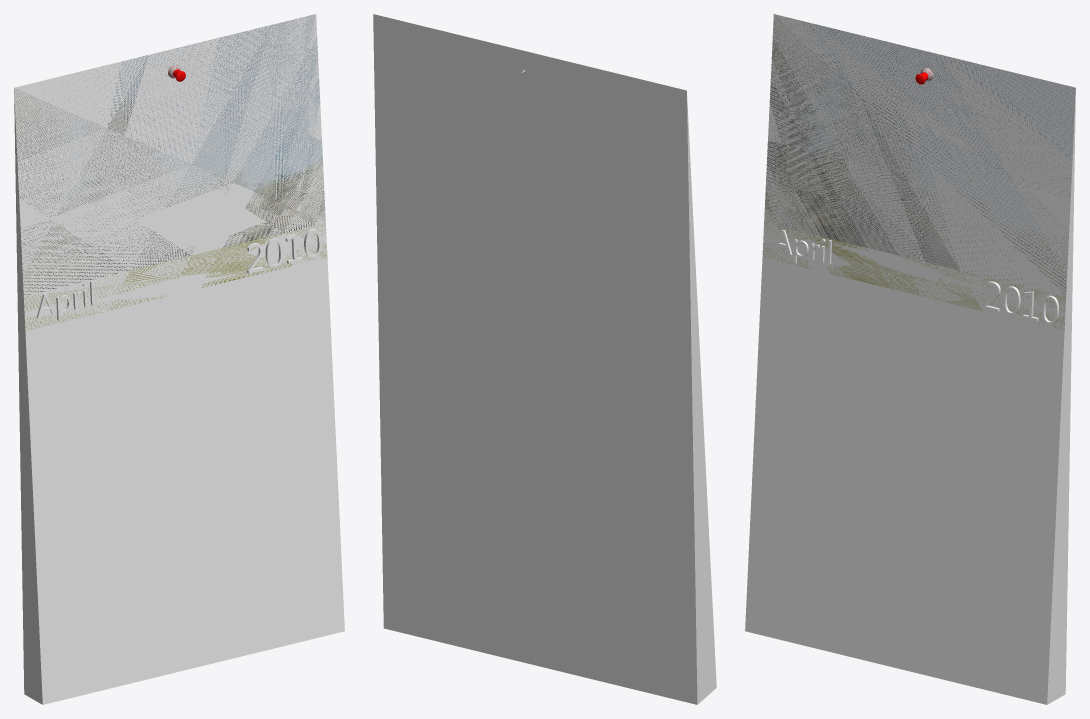
The picture shows the model from 3 angles, left to right: view 1: azimuth 30°, elevation 25°; view 2: azimuth 150°, elevation 25°; view 3: azimuth 330°, elevation 25°; orthographic projection. The views are drawn at different scales.
Visible parts, largest first — view 1: SketchUp (×3), instance_2; view 2: SketchUp; view 3: SketchUp (×3), instance_2.
Boxes of the visible parts, left/top/right/bottom form: SketchUp (×3): left=14, top=14, right=344, bottom=704; instance_2: left=247, top=228, right=321, bottom=273; SketchUp: left=373, top=14, right=716, bottom=704; SketchUp (×3): left=745, top=14, right=1075, bottom=704; instance_2: left=982, top=281, right=1059, bottom=324.
Bounding box in the file's own units: 13.44 × 2.46 × 25.47.
Materials: 6 (1 with a texture image).
